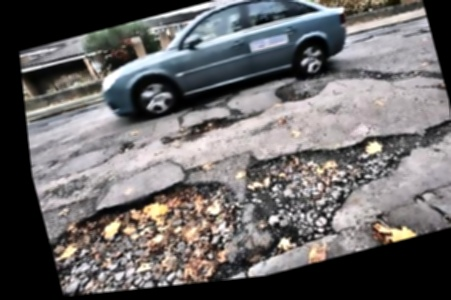pothole: (35, 110, 448, 298), (270, 71, 330, 108), (183, 109, 243, 139)
